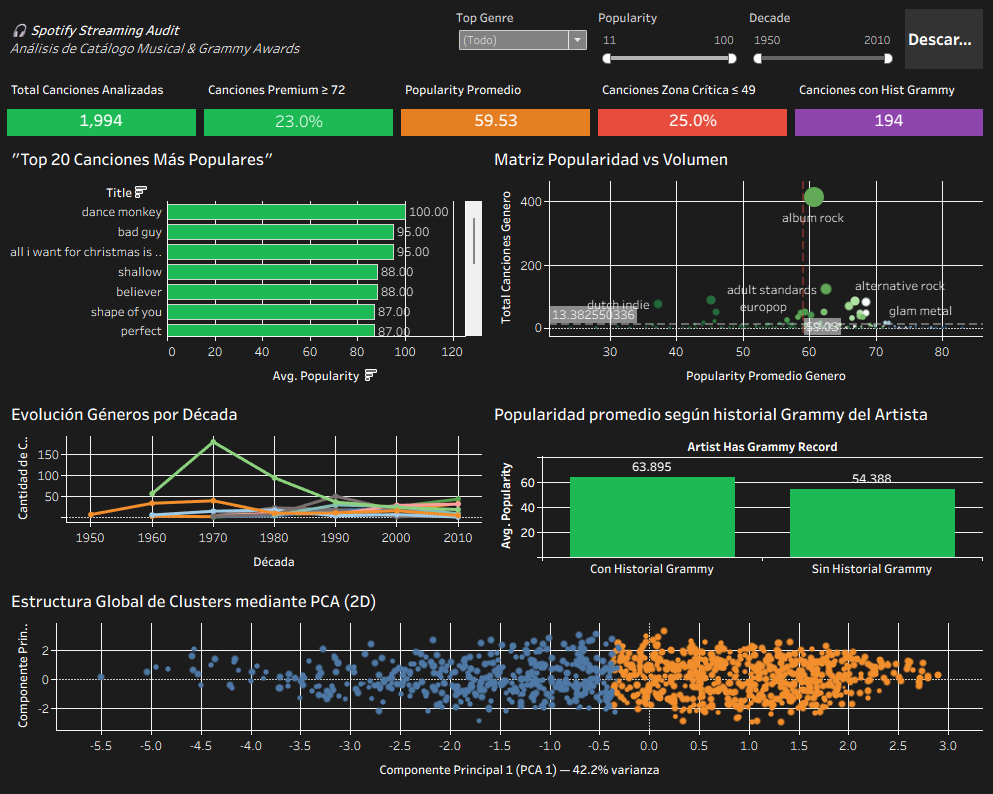

The dashboard page shown, as its layout file describes it:
{"tool":"tableau","page":{"name":"Dashboard Final","canvas":[1000,800],"ordinal":0},"visuals":[{"type":"text","box":[8,8,449,68]},{"type":"filter","title":"Evolución Géneros por Década","param":"[federated.10yfbzk1isqsrc1ei3z4b1njxpat].[none:top_genre:nk]","box":[457,8,142,68]},{"type":"filter","title":"\"Top 20 Canciones Más Populares\"","param":"[federated.10yfbzk1isqsrc1ei3z4b1njxpat].[none:popularity:qk]","box":[599,8,151,68]},{"type":"filter","title":"Evolución Géneros por Década","param":"[federated.10yfbzk1isqsrc1ei3z4b1njxpat].[none:decade:qk]","box":[750,8,155.5,68]},{"type":"dashboard-object","box":[905.5,8,86.5,68]},{"type":"worksheet","title":"Total Canciones Analizadas","mark":"Automatic","box":[8,76,197,67]},{"type":"worksheet","title":"Canciones Premium ≥ 72","mark":"Automatic","box":[205,76,197,67]},{"type":"worksheet","title":"Popularity Promedio","mark":"Automatic","box":[402,76,197,67]},{"type":"worksheet","title":"Canciones Zona Crítica ≤ 49","mark":"Automatic","box":[599,76,197,67]},{"type":"worksheet","title":"Canciones con Hist Grammy","mark":"Automatic","box":[796,76,196,67]},{"type":"worksheet","title":"\"Top 20 Canciones Más Populares\"","mark":"Bar","rows":["title"],"cols":["popularity"],"box":[8,143,482.6,255.4]},{"type":"worksheet","title":"Matriz Popularidad vs Volumen","mark":"Circle","rows":["total_canciones_genero"],"cols":["popularity_promedio_genero"],"box":[490.6,143,501.4,255]},{"type":"worksheet","title":"Popularidad promedio según historial Grammy del Artista","mark":"Bar","rows":["popularity"],"cols":["artist_has_grammy_record"],"box":[490.6,398,501.4,186.6]},{"type":"worksheet","title":"Evolución Géneros por Década","mark":"Line","rows":["title"],"cols":["decade"],"box":[8,398.4,482.6,186.2]},{"type":"worksheet","title":"Estructura Global de Clusters mediante PCA (2D)","mark":"Circle","rows":["pca_2"],"cols":["pca_1"],"box":[8,584.6,984,207.4]}]}

Visuals, with their boxes in screenshot pixels (x1, y1, x2, y2), scaled from the page's 1000x800 canvas onto the 993x794 screenshot:
text: x1=8, y1=8, x2=454, y2=75
"Evolución Géneros por Década" filter: x1=454, y1=8, x2=595, y2=75
""Top 20 Canciones Más Populares"" filter: x1=595, y1=8, x2=745, y2=75
"Evolución Géneros por Década" filter: x1=745, y1=8, x2=899, y2=75
dashboard-object: x1=899, y1=8, x2=985, y2=75
"Total Canciones Analizadas" worksheet: x1=8, y1=75, x2=204, y2=142
"Canciones Premium ≥ 72" worksheet: x1=204, y1=75, x2=399, y2=142
"Popularity Promedio" worksheet: x1=399, y1=75, x2=595, y2=142
"Canciones Zona Crítica ≤ 49" worksheet: x1=595, y1=75, x2=790, y2=142
"Canciones con Hist Grammy" worksheet: x1=790, y1=75, x2=985, y2=142
""Top 20 Canciones Más Populares"" worksheet (Bar marks): x1=8, y1=142, x2=487, y2=395
"Matriz Popularidad vs Volumen" worksheet (Circle marks): x1=487, y1=142, x2=985, y2=395
"Popularidad promedio según historial Grammy del Artista" worksheet (Bar marks): x1=487, y1=395, x2=985, y2=580
"Evolución Géneros por Década" worksheet (Line marks): x1=8, y1=395, x2=487, y2=580
"Estructura Global de Clusters mediante PCA (2D)" worksheet (Circle marks): x1=8, y1=580, x2=985, y2=786
